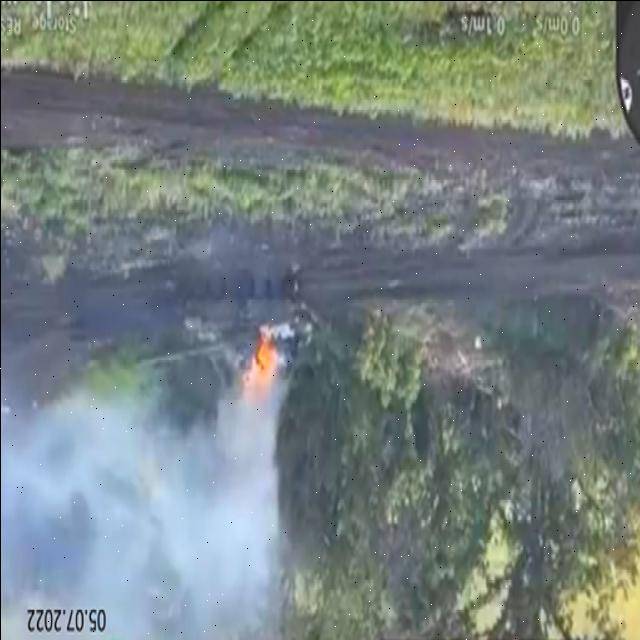TANK: (134, 273, 318, 389)
